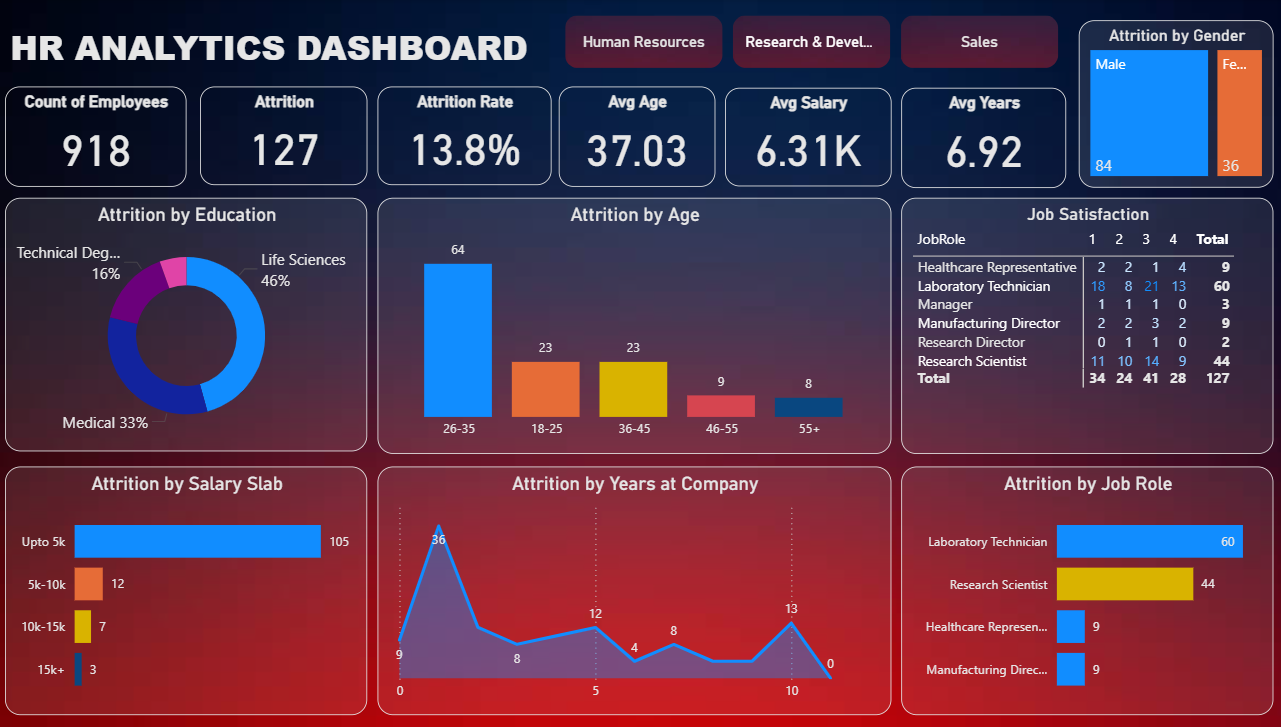

The page's visual inventory and layout, read from the dashboard file:
{"tool":"powerbi","page":{"name":"Page 1","canvas":[1280,720],"ordinal":0},"visuals":[{"type":"card","title":"Count of Employees","fields":{"Values":["CountNonNull(HR_Analytics.EmpID)"]},"box":[9.7,84.5,174.9,96.5],"z":0},{"type":"card","title":"Attrition","fields":{"Values":["Sum(HR_Analytics.AttritionCount)"]},"box":[197.9,84.5,161.7,95.3],"z":1000},{"type":"card","title":"Attrition Rate","fields":{"Values":["HR_Analytics.Attrition Rate"]},"box":[369.2,84.5,167.7,95.3],"z":2000},{"type":"card","title":"Avg Age","fields":{"Values":["Avg(HR_Analytics.Age)"]},"box":[544.1,84.5,150.8,96.5],"z":3000},{"type":"card","title":"Avg Salary","fields":{"Values":["Avg(HR_Analytics.MonthlyIncome)"]},"box":[704.6,85.7,160.5,95.3],"z":4000},{"type":"card","title":"Avg Years","fields":{"Values":["Avg(HR_Analytics.YearsAtCompany)"]},"box":[874.7,85.7,159.3,96.5],"z":5000},{"type":"donutChart","title":"Attrition by Education","fields":{"Category":["HR_Analytics.EducationField"],"Y":["Sum(HR_Analytics.AttritionCount)"]},"box":[9.7,191.8,349.9,244.9],"z":6000},{"type":"columnChart","title":"Attrition by Age","fields":{"Y":["Sum(HR_Analytics.AttritionCount)"],"Category":["HR_Analytics.AgeGroup"]},"box":[369.2,191.8,495.8,247.3],"z":7000},{"type":"pivotTable","title":"Job Satisfaction","fields":{"Rows":["HR_Analytics.JobRole"],"Columns":["HR_Analytics.JobSatisfaction"],"Values":["Sum(HR_Analytics.AttritionCount)"]},"box":[874.7,191.8,359.5,247.3],"z":8000},{"type":"barChart","title":"Attrition by Salary Slab","fields":{"Category":["HR_Analytics.SalarySlab"],"Y":["Sum(HR_Analytics.AttritionCount)"]},"box":[9.7,451.2,349.9,240.1],"z":9000},{"type":"barChart","title":"Attrition by Job Role","fields":{"Category":["HR_Analytics.JobRole"],"Y":["Sum(HR_Analytics.AttritionCount)"]},"box":[874.7,451.2,359.5,240.1],"z":10000},{"type":"areaChart","title":"Attrition by Years at Company","fields":{"Category":["HR_Analytics.YearsAtCompany"],"Y":["Sum(HR_Analytics.AttritionCount)"]},"box":[369.2,451.2,495.8,240.1],"z":11000},{"type":"treemap","title":"Attrition by Gender","fields":{"Group":["HR_Analytics.Gender"],"Values":["Sum(HR_Analytics.AttritionCount)"]},"box":[1046,20.5,188.2,161.7],"z":12000},{"type":"textbox","box":[9.7,19.3,527.2,65.1],"z":13000},{"type":"advancedSlicerVisual","fields":{"Values":["HR_Analytics.Department"]},"box":[544.1,9.7,489.8,63.9],"z":13001}]}

Visuals, with their boxes in screenshot pixels (x1, y1, x2, y2), scaled from the page's 1280x720 canvas onto the 1281x727 screenshot:
"Count of Employees" card: l=10, t=85, r=185, b=183
"Attrition" card: l=198, t=85, r=360, b=182
"Attrition Rate" card: l=369, t=85, r=537, b=182
"Avg Age" card: l=545, t=85, r=695, b=183
"Avg Salary" card: l=705, t=87, r=866, b=183
"Avg Years" card: l=875, t=87, r=1035, b=184
"Attrition by Education" donutChart: l=10, t=194, r=360, b=441
"Attrition by Age" columnChart: l=369, t=194, r=866, b=443
"Job Satisfaction" pivotTable: l=875, t=194, r=1235, b=443
"Attrition by Salary Slab" barChart: l=10, t=456, r=360, b=698
"Attrition by Job Role" barChart: l=875, t=456, r=1235, b=698
"Attrition by Years at Company" areaChart: l=369, t=456, r=866, b=698
"Attrition by Gender" treemap: l=1047, t=21, r=1235, b=184
textbox: l=10, t=19, r=537, b=85
advancedSlicerVisual - HR_Analytics.Department: l=545, t=10, r=1035, b=74
